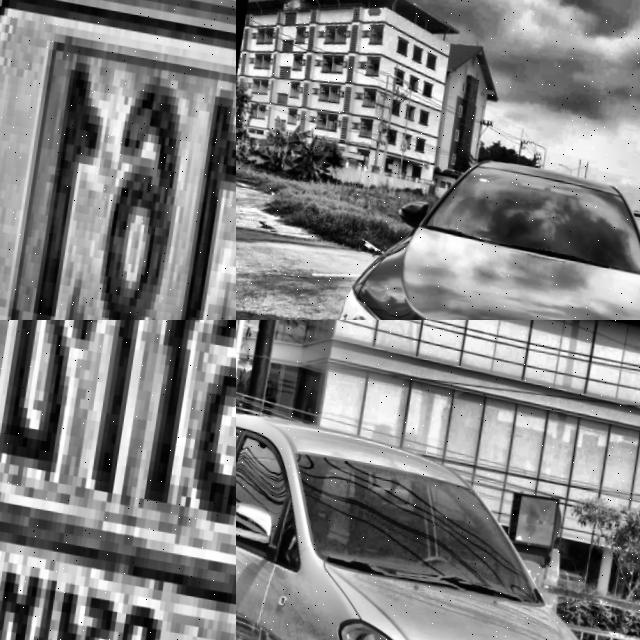license-plate: (0, 0, 236, 320), (0, 320, 236, 640)
